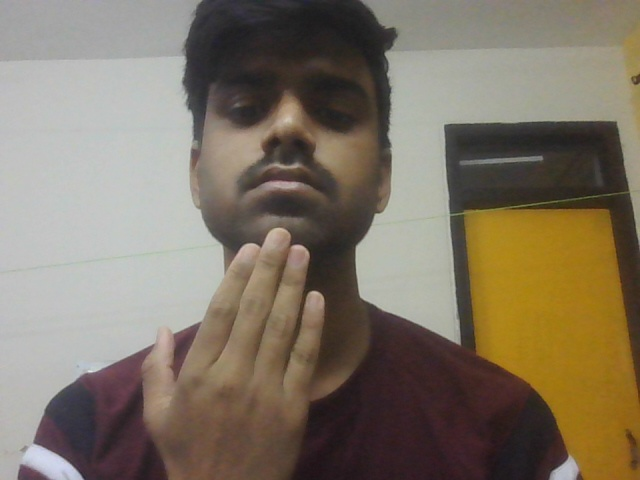thanks: (121, 217, 346, 480)
